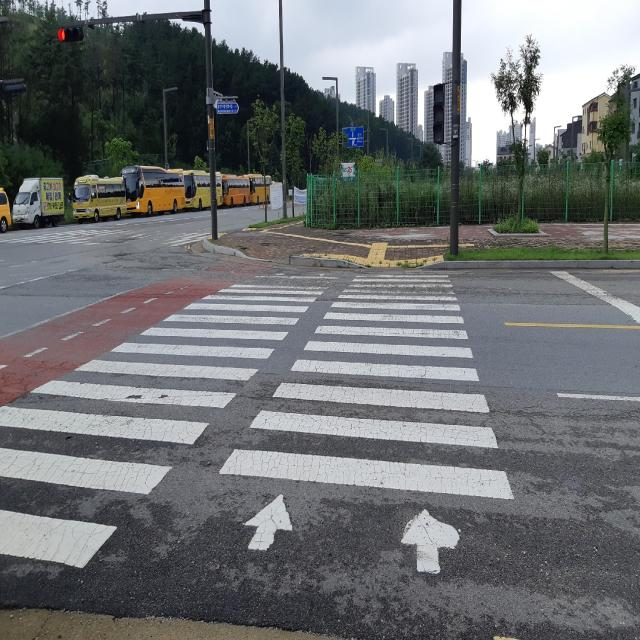횡단보도: (0, 272, 516, 575)
